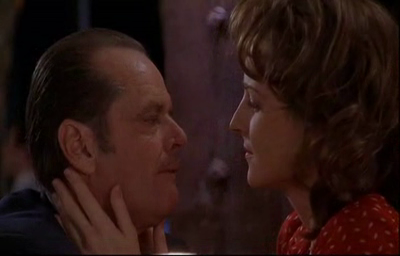cu: (1, 1, 400, 256)
face: (114, 61, 189, 218), (228, 58, 297, 191)
person: (225, 1, 400, 254), (1, 27, 189, 254)
